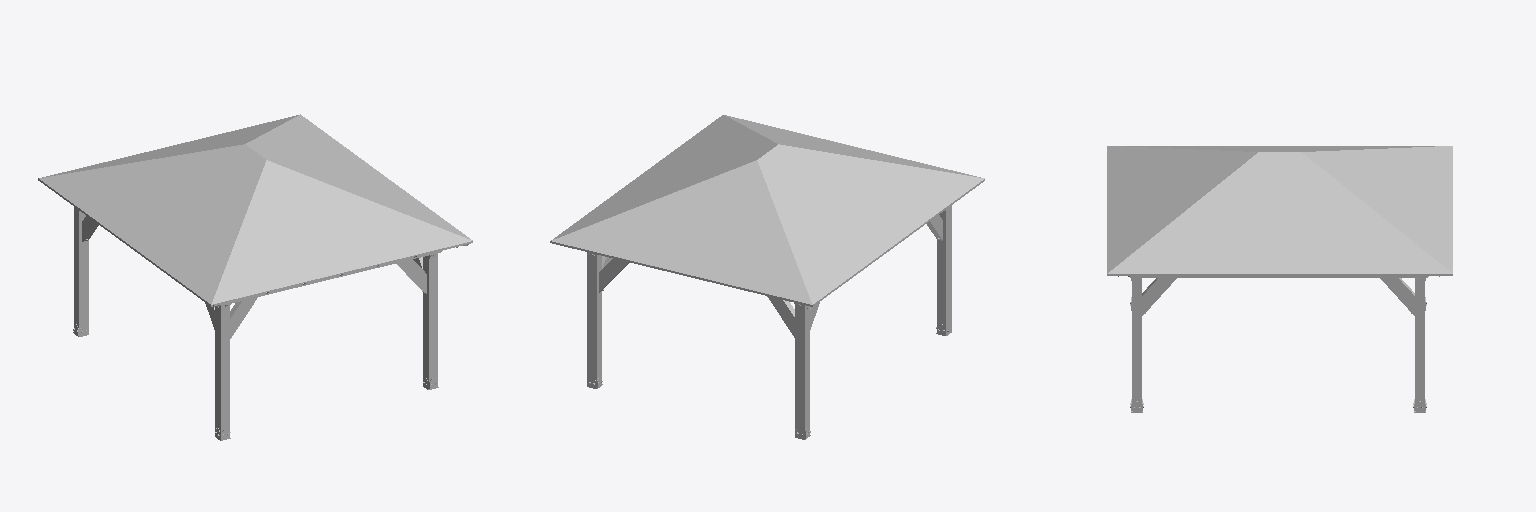
Rendered from saratoga-14x16-ogee.obj.
3 views of the same model, side by side, from view 1: azimuth 30°, elevation 25°; view 2: azimuth 150°, elevation 25°; view 3: azimuth 270°, elevation 25° (orthographic).
Visible parts, largest first — view 1: Mesh228 shingles roof Group1 Model, Mesh179 Group73 Component_92_4 Group2 Group1 Model, Mesh81 Group45 Component_92_2 Group2 Group1 Model, Mesh130 Group59 Component_92_3 Group2 Group1 Model, Mesh229 roof Group1 Model; view 2: Mesh228 shingles roof Group1 Model, Mesh130 Group59 Component_92_3 Group2 Group1 Model, Mesh1 Group4 Component_92_1 Group3 Group2 Group1 Model, Mesh179 Group73 Component_92_4 Group2 Group1 Model, Mesh229 roof Group1 Model; view 3: Mesh228 shingles roof Group1 Model, Mesh1 Group4 Component_92_1 Group3 Group2 Group1 Model, Mesh81 Group45 Component_92_2 Group2 Group1 Model, Mesh229 roof Group1 Model, Mesh125 Component_91_4 Component_92_2 Group2 Group1 Model, Mesh45 Component_91_2 Component_92_1 Group3 Group2 Group1 Model, Mesh80 Component_134_2 Group2 Group1 Model.
Boxes of the visible parts, x1=… form: Mesh228 shingles roof Group1 Model: x1=39, y1=114, x2=472, y2=304; Mesh179 Group73 Component_92_4 Group2 Group1 Model: x1=215, y1=305, x2=229, y2=439; Mesh81 Group45 Component_92_2 Group2 Group1 Model: x1=423, y1=253, x2=437, y2=388; Mesh130 Group59 Component_92_3 Group2 Group1 Model: x1=74, y1=207, x2=88, y2=335; Mesh229 roof Group1 Model: x1=38, y1=178, x2=472, y2=306; Mesh228 shingles roof Group1 Model: x1=551, y1=115, x2=984, y2=304; Mesh130 Group59 Component_92_3 Group2 Group1 Model: x1=795, y1=304, x2=809, y2=438; Mesh1 Group4 Component_92_1 Group3 Group2 Group1 Model: x1=587, y1=252, x2=601, y2=387; Mesh179 Group73 Component_92_4 Group2 Group1 Model: x1=937, y1=205, x2=951, y2=334; Mesh229 roof Group1 Model: x1=550, y1=179, x2=984, y2=306; Mesh228 shingles roof Group1 Model: x1=1107, y1=146, x2=1452, y2=273; Mesh1 Group4 Component_92_1 Group3 Group2 Group1 Model: x1=1415, y1=278, x2=1424, y2=410; Mesh81 Group45 Component_92_2 Group2 Group1 Model: x1=1132, y1=278, x2=1141, y2=410; Mesh229 roof Group1 Model: x1=1107, y1=274, x2=1452, y2=275; Mesh125 Component_91_4 Component_92_2 Group2 Group1 Model: x1=1142, y1=278, x2=1176, y2=315; Mesh45 Component_91_2 Component_92_1 Group3 Group2 Group1 Model: x1=1380, y1=278, x2=1414, y2=315; Mesh80 Component_134_2 Group2 Group1 Model: x1=1135, y1=276, x2=1415, y2=277.
Bounding box in the file's own units: 169 × 128 × 193.